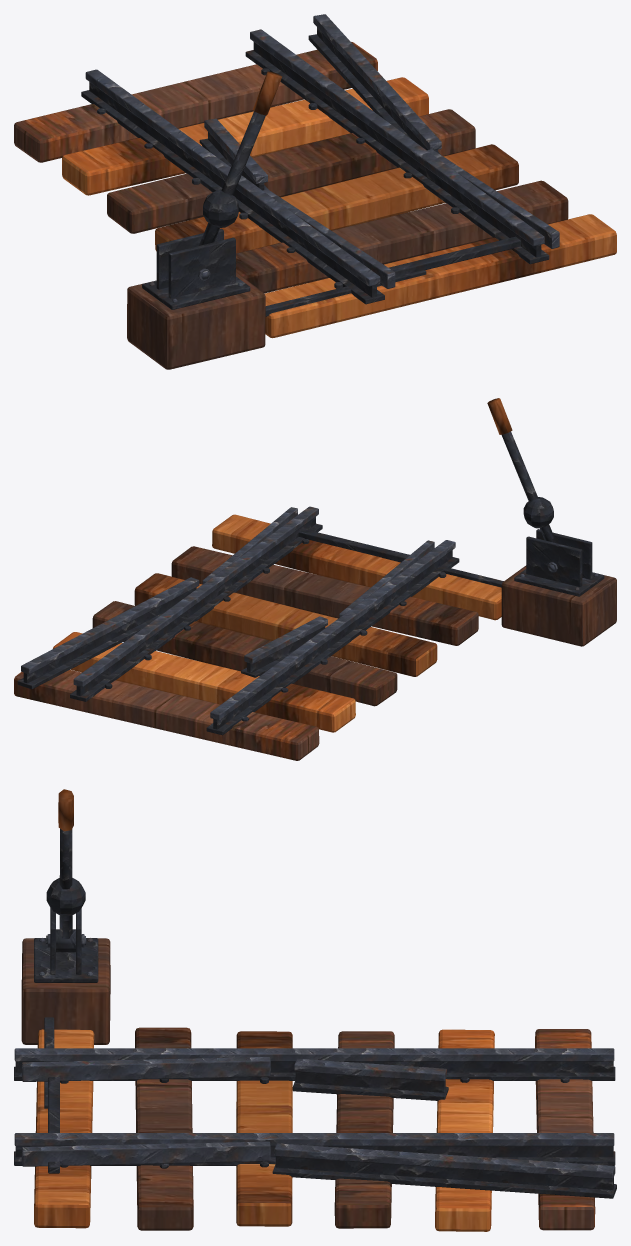
Rendered from lw_rail_switch_lever.glb.
3 views of the same model, one above another, from view 1: azimuth 30°, elevation 25°; view 2: azimuth 150°, elevation 25°; view 3: azimuth 270°, elevation 25° (orthographic). The views are drawn at different scales.
Parts seen in each view (by area): view 1: model; view 2: model; view 3: model.
Part boxes in pixels (x1=…): model: x1=14, y1=14, x2=616, y2=369; model: x1=14, y1=398, x2=616, y2=760; model: x1=14, y1=789, x2=616, y2=1231.
Size of the model in its own units: 1.4 by 0.7445 by 1.5.
Materials: 7 (7 with a texture image).
